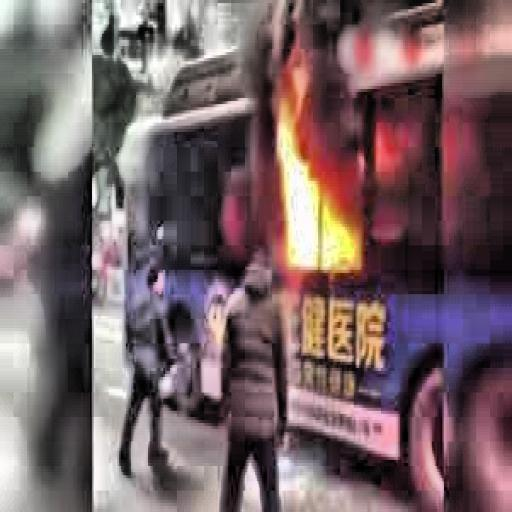fire: (257, 65, 379, 285)
